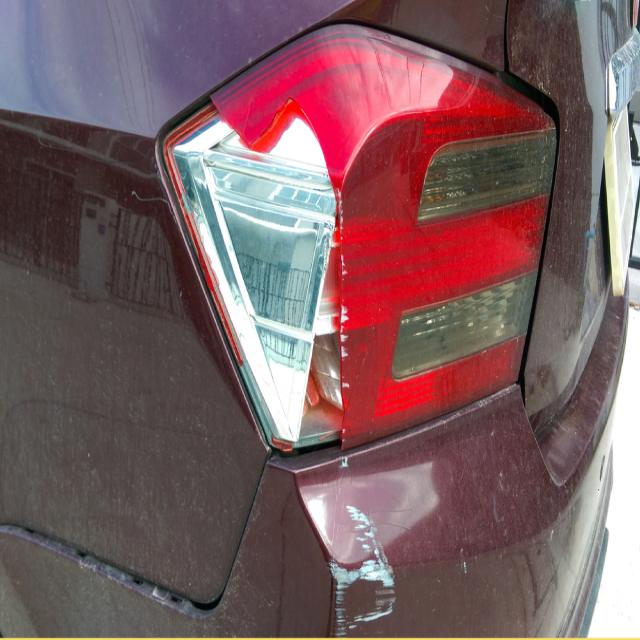Phare abime: (144, 89, 361, 451)
Rayure: (328, 493, 401, 633)
